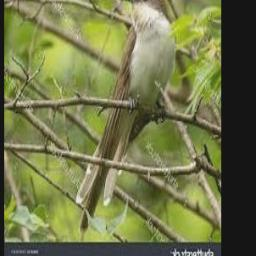Cuckoo: (76, 0, 174, 230)
